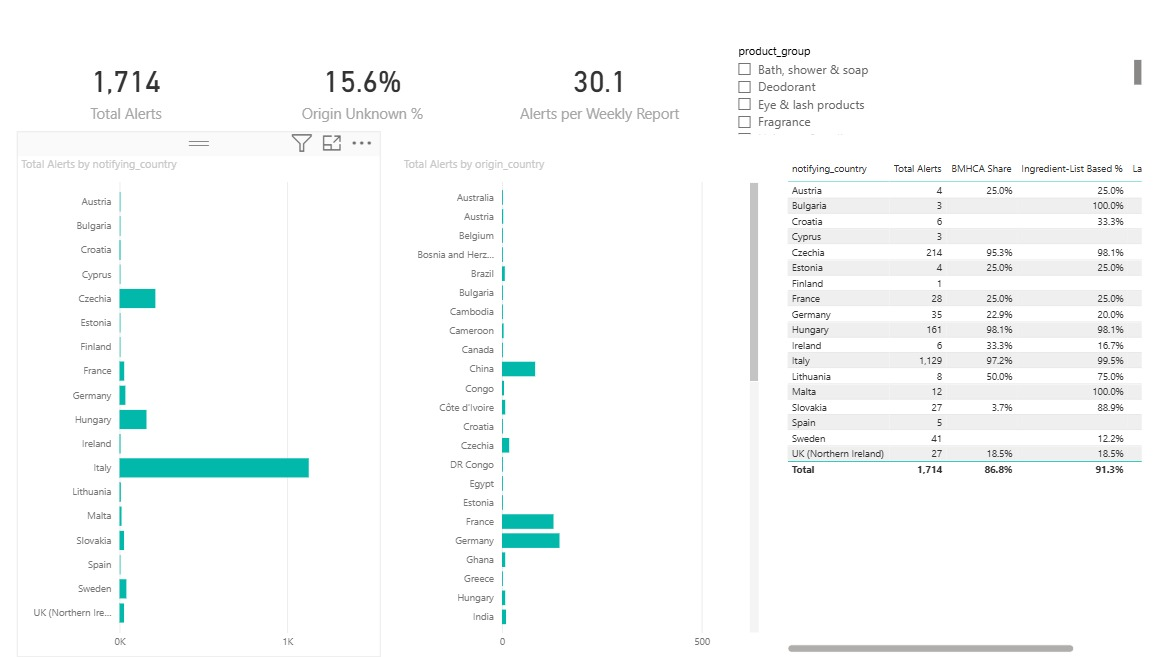

The page's visual inventory and layout, read from the dashboard file:
{"tool":"powerbi","page":{"name":"Country and Market Analysis","canvas":[1280,720],"ordinal":2},"visuals":[{"type":"card","fields":{"Values":["Alerts.Total Alerts"]},"box":[20,20,240,110],"z":1},{"type":"card","fields":{"Values":["Alerts.Origin Unknown %"]},"box":[280,20,240,110],"z":2},{"type":"card","fields":{"Values":["Alerts.Alerts per Weekly Report"]},"box":[540,20,240,110],"z":3},{"type":"slicer","fields":{"Values":["Alerts.product_group"]},"box":[800,20,460,110],"z":4},{"type":"clusteredBarChart","fields":{"Category":["Alerts.notifying_country"],"Y":["Alerts.Total Alerts"]},"box":[20,150,400,550],"z":5},{"type":"clusteredBarChart","fields":{"Category":["Alerts.origin_country"],"Y":["Alerts.Total Alerts"]},"box":[440,150,400,550],"z":6},{"type":"tableEx","fields":{"Values":["Alerts.notifying_country","Alerts.Total Alerts","Alerts.BMHCA Share","Alerts.Ingredient-List Based %","Alerts.Lab Measurement %"]},"box":[860,150,400,550],"z":7}]}

Visuals, with their boxes in screenshot pixels (x1, y1, x2, y2), scaled from the page's 1280x720 canvas onto the 1160x657 screenshot:
card - Alerts.Total Alerts: left=18, top=18, right=236, bottom=119
card - Alerts.Origin Unknown %: left=254, top=18, right=471, bottom=119
card - Alerts.Alerts per Weekly Report: left=489, top=18, right=707, bottom=119
slicer - Alerts.product_group: left=725, top=18, right=1142, bottom=119
clusteredBarChart - Alerts.notifying_country x Alerts.Total Alerts: left=18, top=137, right=381, bottom=639
clusteredBarChart - Alerts.origin_country x Alerts.Total Alerts: left=399, top=137, right=761, bottom=639
tableEx - Alerts.notifying_country x Alerts.Total Alerts: left=779, top=137, right=1142, bottom=639
